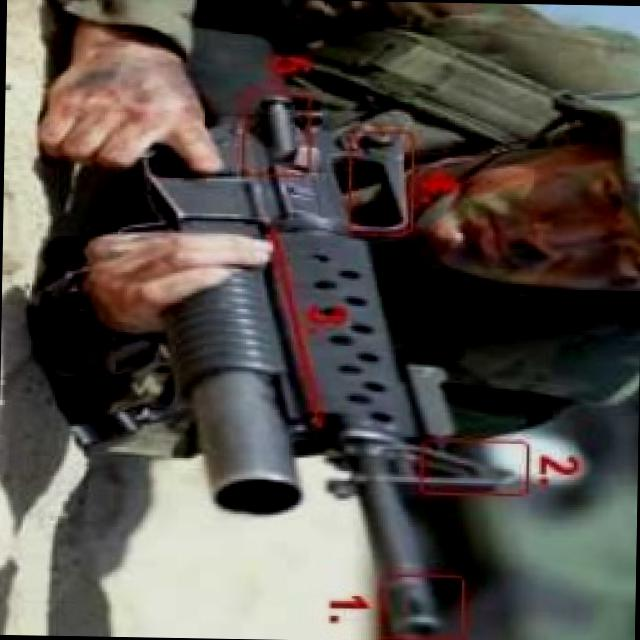long weapon: (101, 0, 474, 636)
